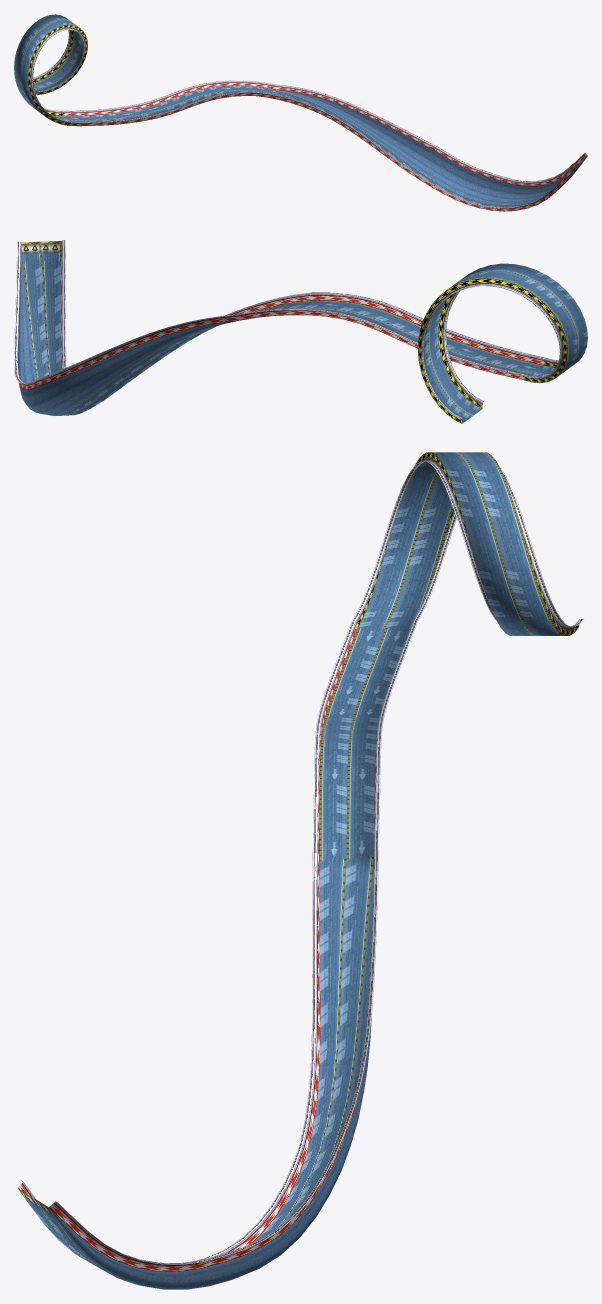
The model's file is Tubo3.fbx.
3 renders of one model, top to bottom at view 1: azimuth 30°, elevation 25°; view 2: azimuth 150°, elevation 25°; view 3: azimuth 270°, elevation 25°, orthographic. The views are drawn at different scales.
Parts seen in each view (by area): view 1: part1.003; view 2: part1.003; view 3: part1.003.
Boxes of the visible parts, <box> form: part1.003: <box>14,14,587,211</box>; part1.003: <box>14,240,587,423</box>; part1.003: <box>18,452,583,1289</box>.
Bounding box in the file's own units: 118282 × 54327 × 61510.
8 materials, 8 textured.
